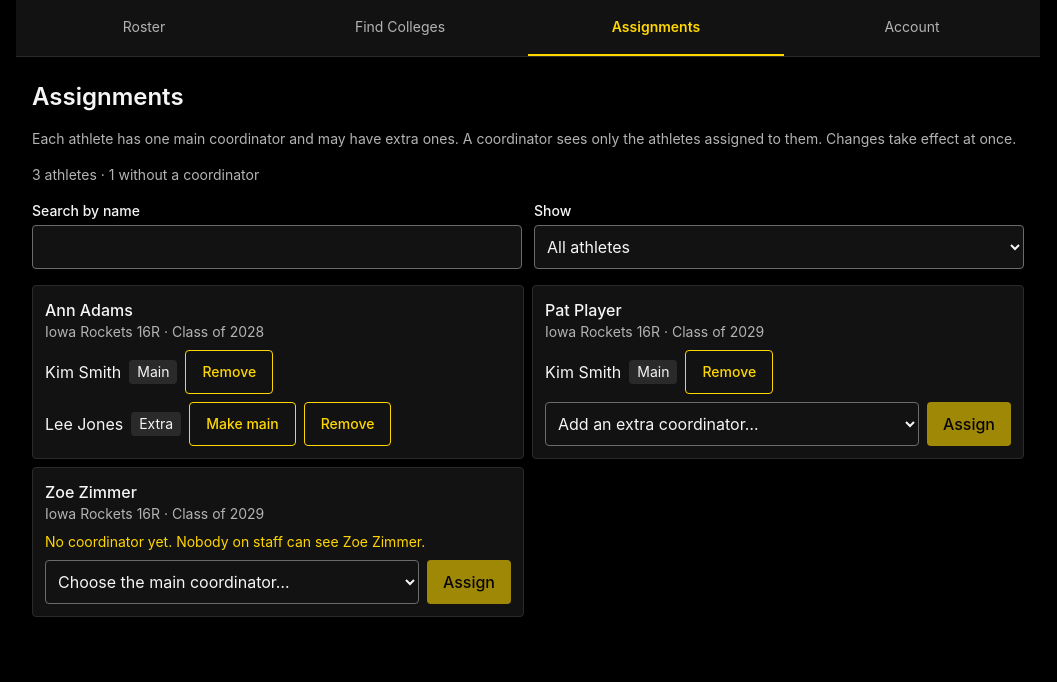
Assignments (administrator) › asks before taking a coordinator away, and can be cancelled
The image size is (1057, 682).
Expected: the list named "Athletes" is shown, [32,285,1024,617]
Click the button with aria-label "Remove Lee Jones from Ann Adams".
click(348, 424)  # box [304,402,391,446]
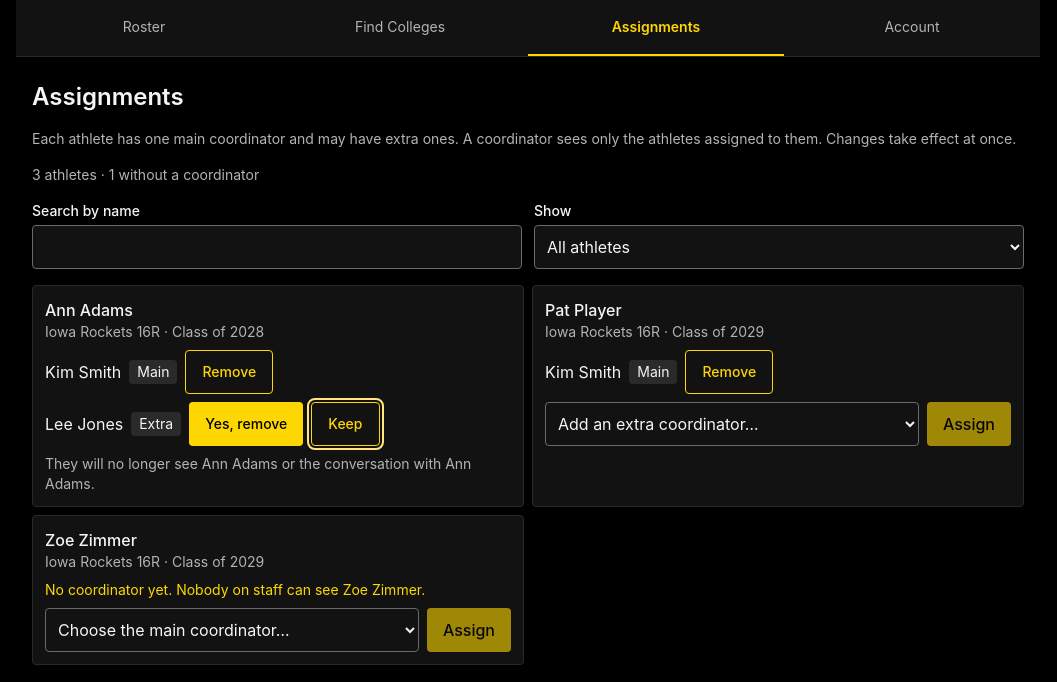
Expected: the text "They will no longer see Ann Adams" is shown, [45,454,511,494]
Click the button "Keep".
click(345, 424)  # box [311,402,380,446]
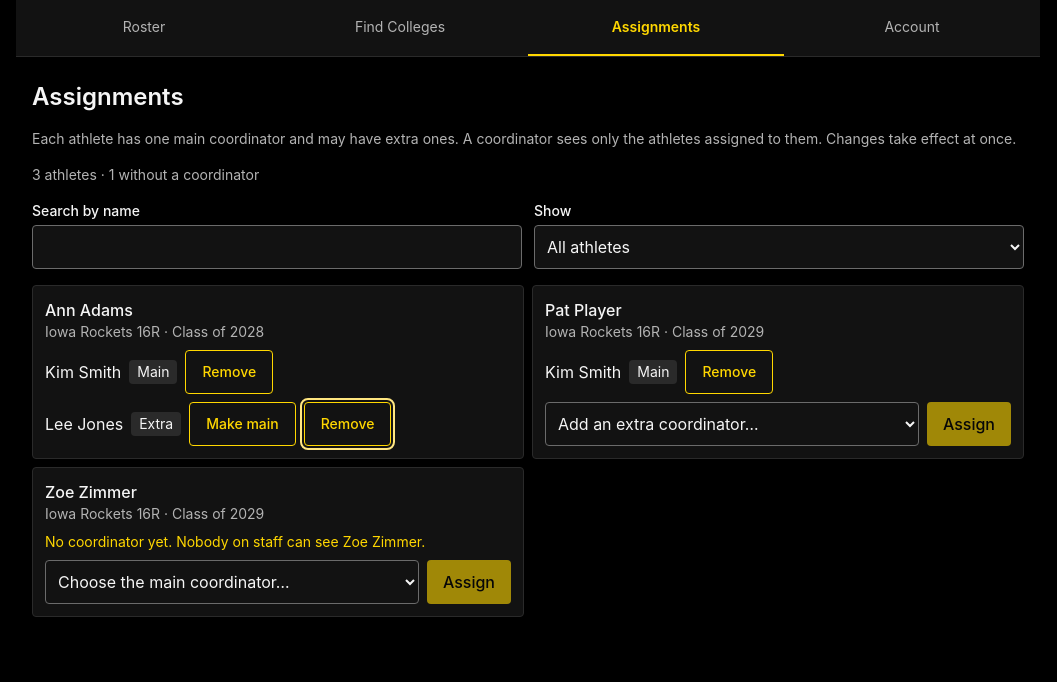
Expected: the button with aria-label "Remove Lee Jones from Ann Adams" is shown
Click the button with aria-label "Remove Lee Jones from Ann Adams".
click(348, 424)  # box [304,402,391,446]
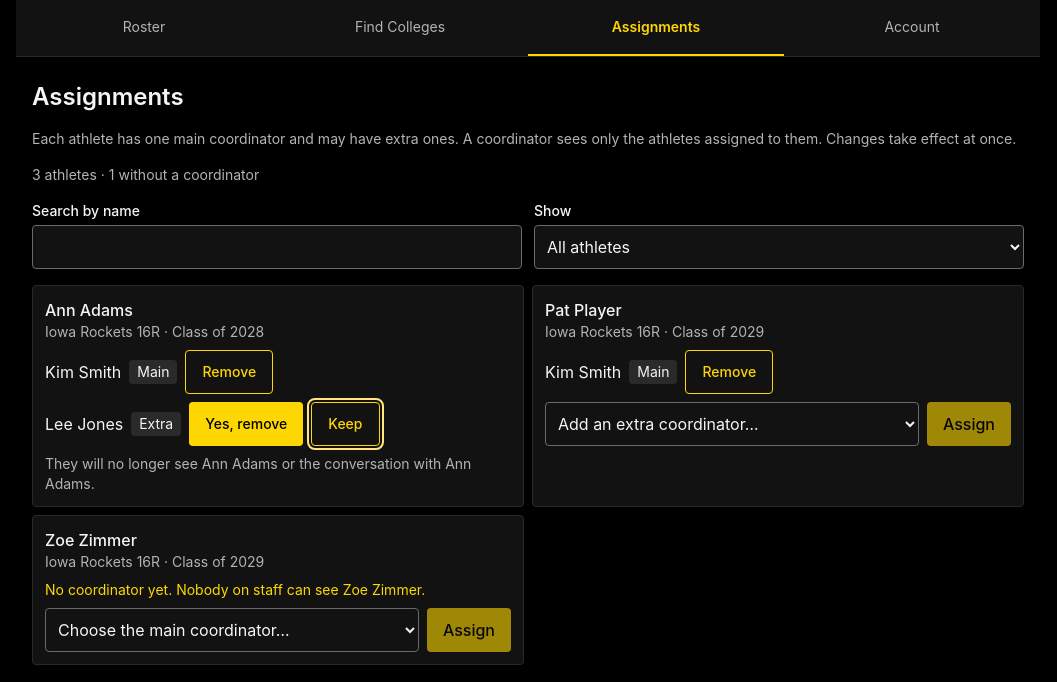
Click the button "Yes, remove".
click(246, 424)  # box [189,402,303,446]
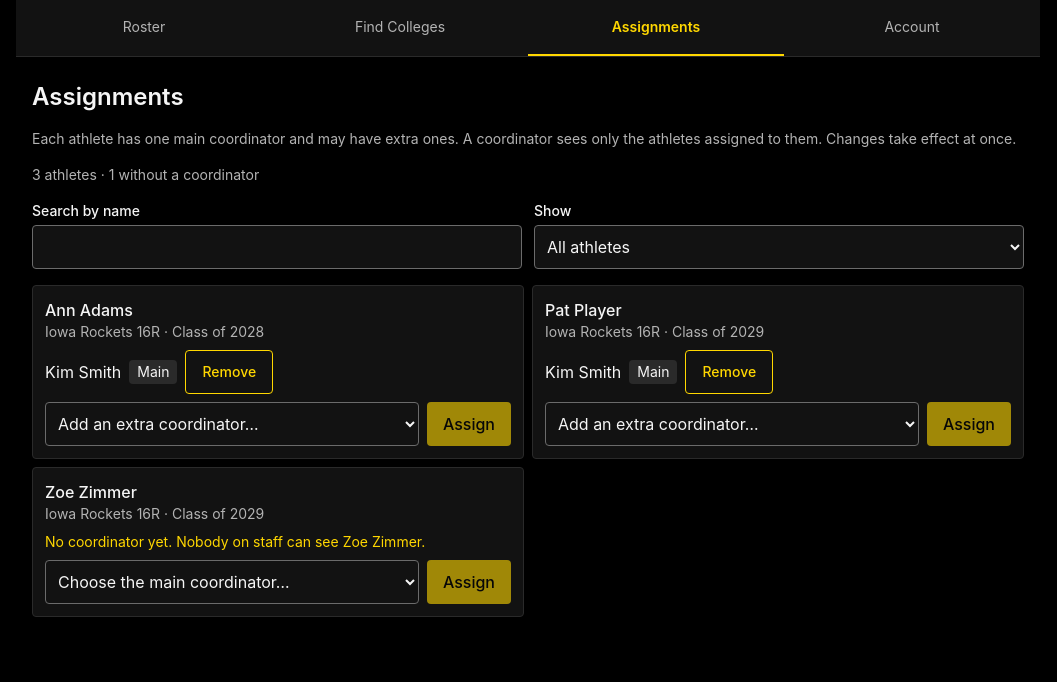
Expected: the text "Lee Jones" is gone
